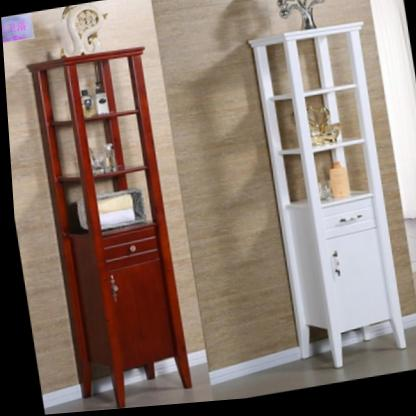Cupboard: (27, 48, 187, 410), (247, 28, 403, 374)
